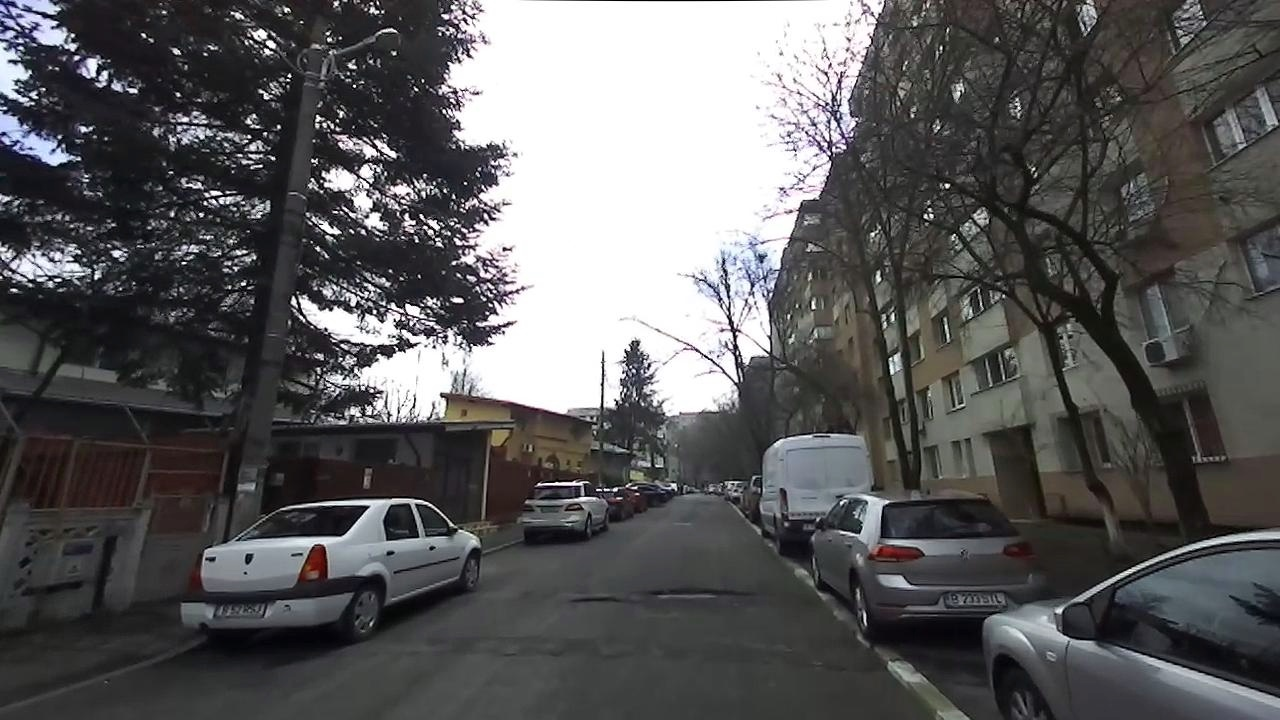pothole: (645, 580, 755, 598), (568, 590, 630, 604)
